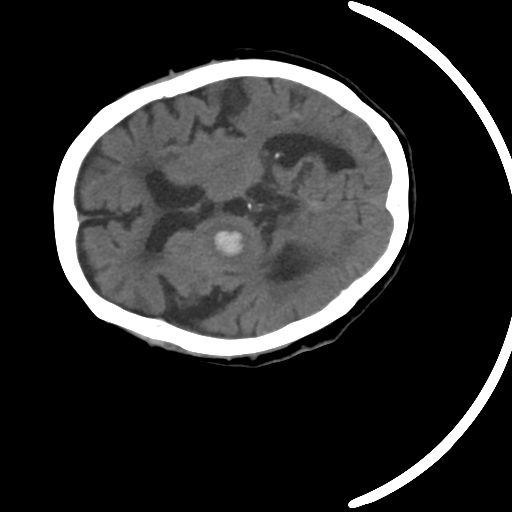a: (196, 212, 262, 270)
